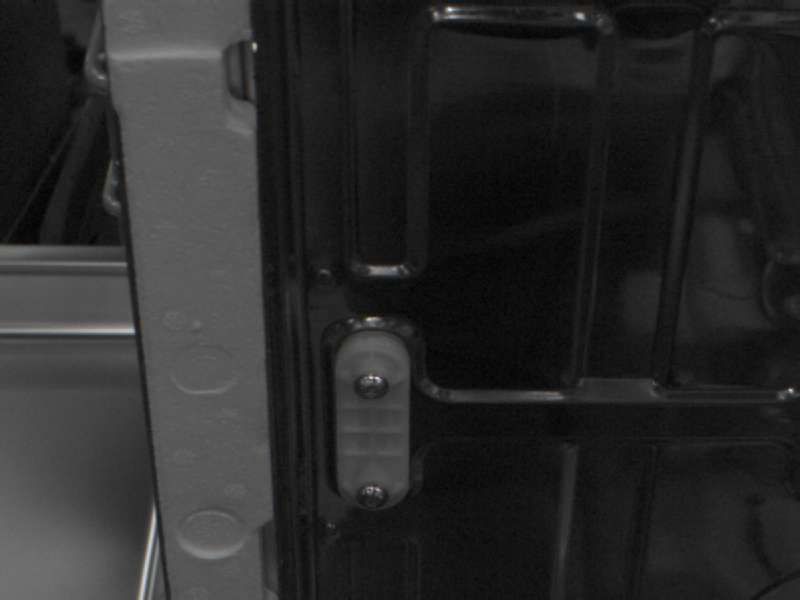screw: (354, 374, 389, 400), (357, 484, 389, 510)
